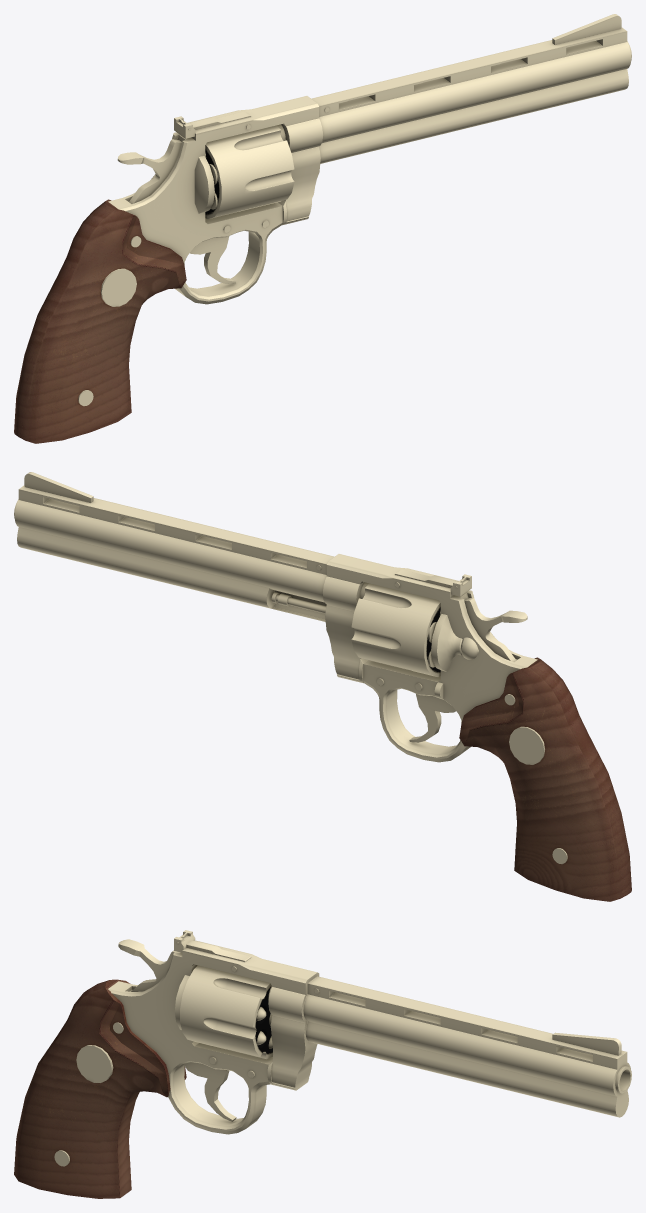
Rendered from weapon_5_4.gltf.
The picture shows the model from 3 angles, top to bottom: view 1: azimuth 30°, elevation 25°; view 2: azimuth 150°, elevation 25°; view 3: azimuth 330°, elevation 25°; orthographic projection.
Visible parts, largest first — view 1: Cube.008_Cube.003; view 2: Cube.008_Cube.003; view 3: Cube.008_Cube.003.
Boxes of the visible parts, x1=… form: Cube.008_Cube.003: x1=14, y1=14, x2=631, y2=443; Cube.008_Cube.003: x1=14, y1=472, x2=631, y2=901; Cube.008_Cube.003: x1=14, y1=930, x2=631, y2=1198.
Size of the model in its own units: 9754 by 4275 by 1154.
1 material, 1 textured.
